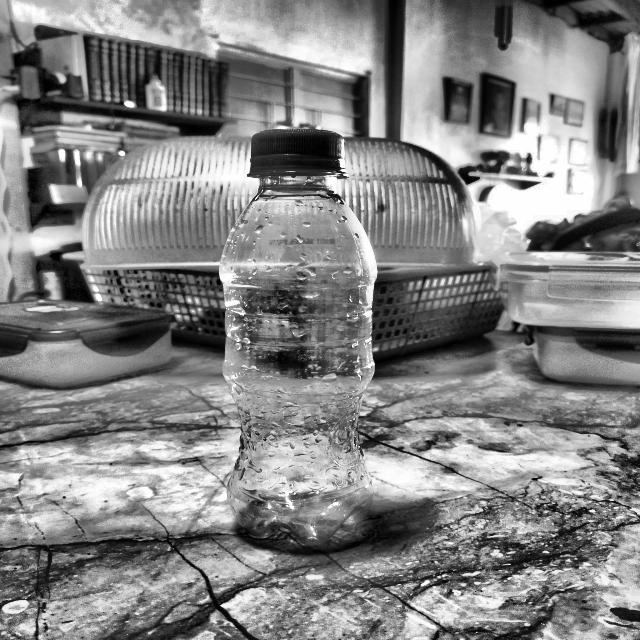Plastic-Bottle: (213, 124, 381, 554)
